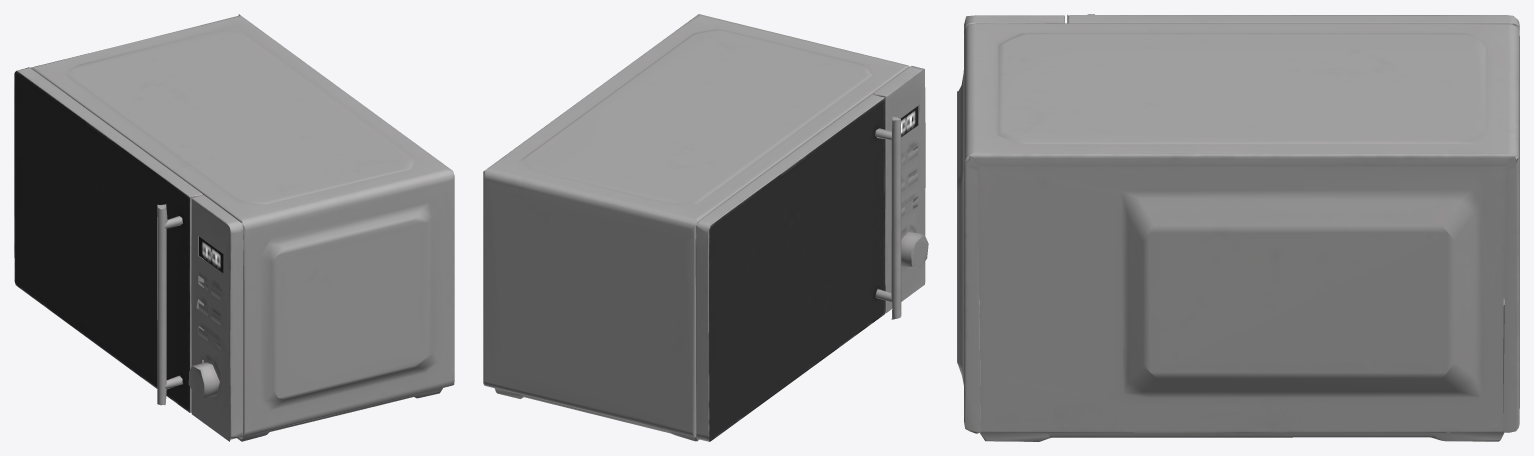
Rendered from SM_Kitchen_Set02a.fbx.
3 renders of one model, left to right at view 1: azimuth 30°, elevation 25°; view 2: azimuth 150°, elevation 25°; view 3: azimuth 270°, elevation 25°, orthographic. The views are drawn at different scales.
Visible parts, largest first — view 1: SM_Kitchen_Set02a_LOD0; view 2: SM_Kitchen_Set02a_LOD0; view 3: SM_Kitchen_Set02a_LOD0.
Part boxes in pixels (x1,y1,x2,y2): SM_Kitchen_Set02a_LOD0: [14, 14, 454, 441]; SM_Kitchen_Set02a_LOD0: [483, 14, 928, 441]; SM_Kitchen_Set02a_LOD0: [957, 14, 1519, 441].
Bounding box in the file's own units: 36.76 × 54.41 × 31.16.
